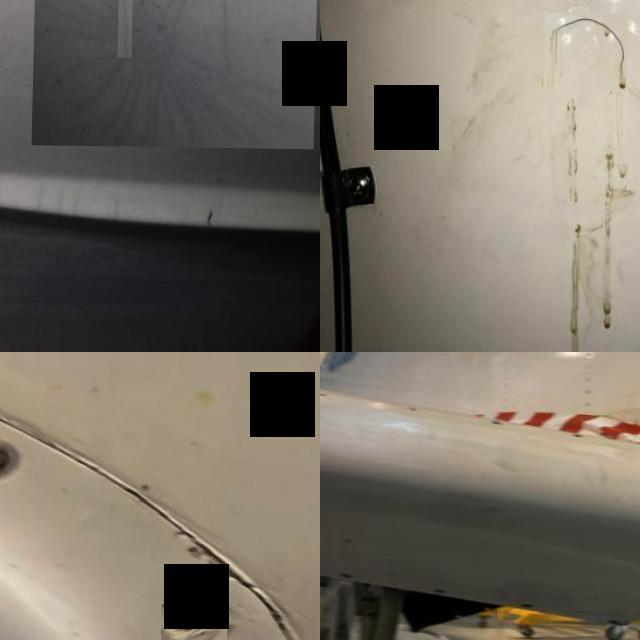Crack: (43, 0, 316, 146), (160, 504, 254, 580), (546, 13, 627, 90), (121, 0, 129, 57)
Missing_Fastener: (161, 596, 228, 640), (425, 586, 452, 596), (338, 568, 357, 582), (602, 617, 624, 626), (522, 602, 534, 610)
